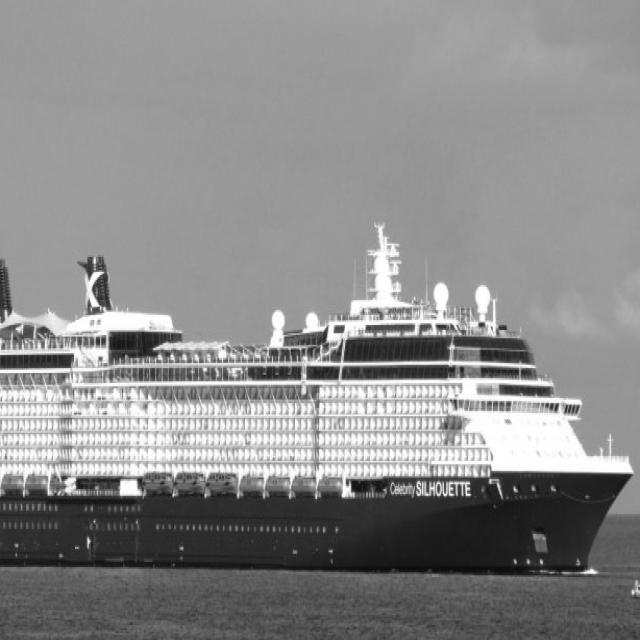cruises: (1, 220, 640, 589)
